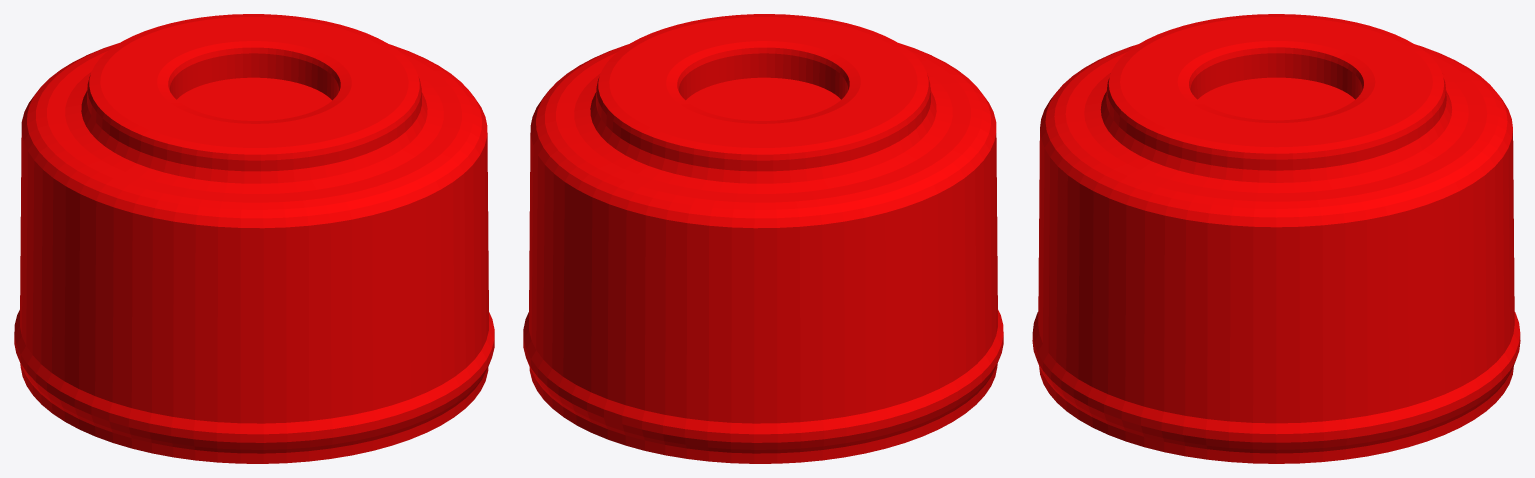
3 renders of one model, left to right at view 1: azimuth 30°, elevation 25°; view 2: azimuth 150°, elevation 25°; view 3: azimuth 270°, elevation 25°, orthographic.
Visible parts, largest first — view 1: MF0609_6_0; view 2: MF0609_6_0; view 3: MF0609_6_0.
Boxes of the visible parts, x1,y1,x2,y2 form: MF0609_6_0: (14,14,494,463); MF0609_6_0: (523,14,1003,463); MF0609_6_0: (1032,14,1520,463).
Bounding box in the file's own units: 89.12 × 90.4 × 57.85.
